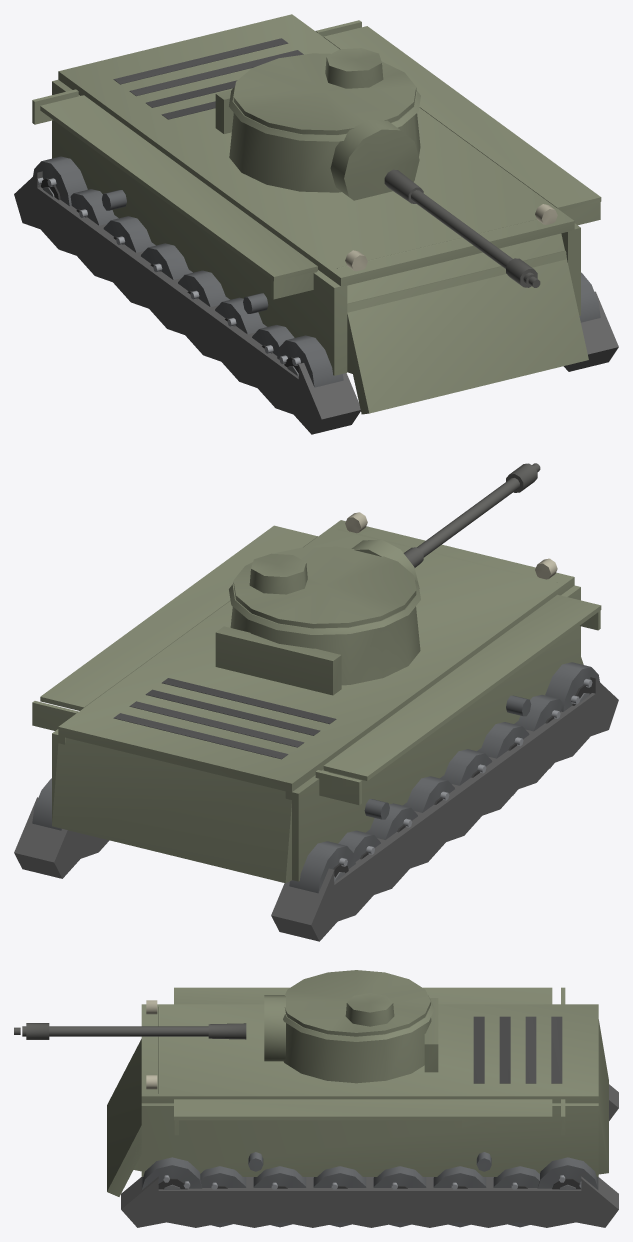
The picture shows the model from 3 angles, top to bottom: view 1: azimuth 30°, elevation 25°; view 2: azimuth 150°, elevation 25°; view 3: azimuth 270°, elevation 25°; orthographic projection. The views are drawn at different scales.
Parts seen in each view (by area): view 1: hullTop, hullSide, glacis, tracks, turretRoof, turretFront, mantlet, barrel, lowerPlate, wheel6, wheel7, turretSide (+8 smaller); view 2: hullTop, hullSide, hullRear, tracks, turretRoof, turretFront, turretRear, barrel, wheel7, turretSide, wheel6, wheel4 (+7 smaller); view 3: hullSide, hullTop, tracks, turretRoof, turretFront, glacis, barrel, wheel14, wheel15, mantlet, hullRear, wheel10 (+7 smaller).
Boxes of the visible parts, left/top/right/bottom form: hullTop: left=58, top=14, right=574, bottom=286; hullSide: left=32, top=20, right=601, bottom=375; glacis: left=337, top=219, right=588, bottom=414; tracks: left=14, top=171, right=618, bottom=434; turretRoof: left=233, top=48, right=416, bottom=134; turretFront: left=229, top=113, right=420, bottom=192; mantlet: left=330, top=119, right=419, bottom=200; barrel: left=384, top=169, right=540, bottom=287; lowerPlate: left=347, top=250, right=566, bottom=373; wheel6: left=277, top=335, right=343, bottom=387; wheel7: left=33, top=156, right=87, bottom=206; turretSide: left=229, top=86, right=420, bottom=141; hullTop: left=58, top=520, right=574, bottom=792; hullSide: left=32, top=512, right=601, bottom=881; hullRear: left=52, top=738, right=293, bottom=883; tracks: left=14, top=677, right=618, bottom=941; turretRoof: left=233, top=546, right=416, bottom=628; turretFront: left=230, top=606, right=420, bottom=685; turretRear: left=215, top=626, right=341, bottom=695; barrel: left=403, top=463, right=540, bottom=567; wheel7: left=289, top=841, right=355, bottom=893; turretSide: left=229, top=580, right=420, bottom=634; wheel6: left=545, top=662, right=599, bottom=711; wheel4: left=477, top=722, right=529, bottom=795; hullSide: left=141, top=987, right=598, bottom=1176; hullTop: left=141, top=1004, right=598, bottom=1103; tracks: left=121, top=1084, right=618, bottom=1227; turretRoof: left=284, top=970, right=430, bottom=1036; turretFront: left=283, top=1017, right=431, bottom=1083; glacis: left=107, top=1006, right=159, bottom=1196; barrel: left=14, top=1023, right=246, bottom=1039; wheel14: left=141, top=1157, right=202, bottom=1189; wheel15: left=537, top=1157, right=598, bottom=1189; mantlet: left=264, top=995, right=285, bottom=1061; hullRear: left=598, top=1019, right=608, bottom=1174; wheel10: left=373, top=1166, right=426, bottom=1227.
Size of the model in its own units: 4.48 by 2.98 by 8.87.
